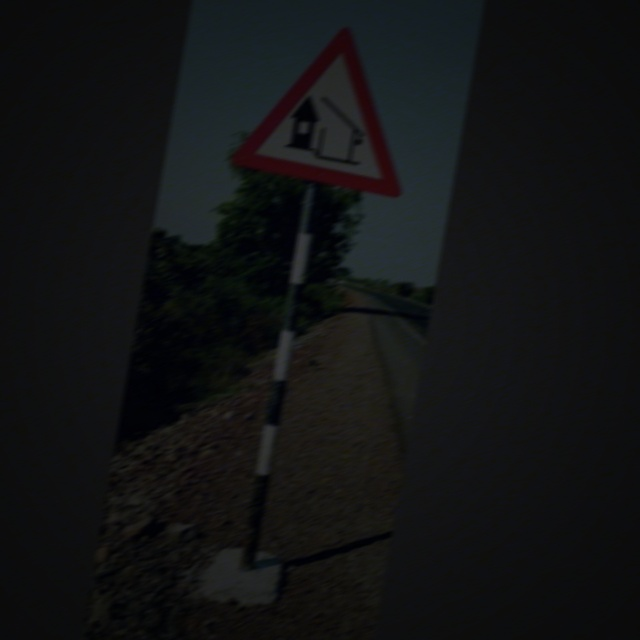Barrier_Ahead: (235, 15, 424, 195)
